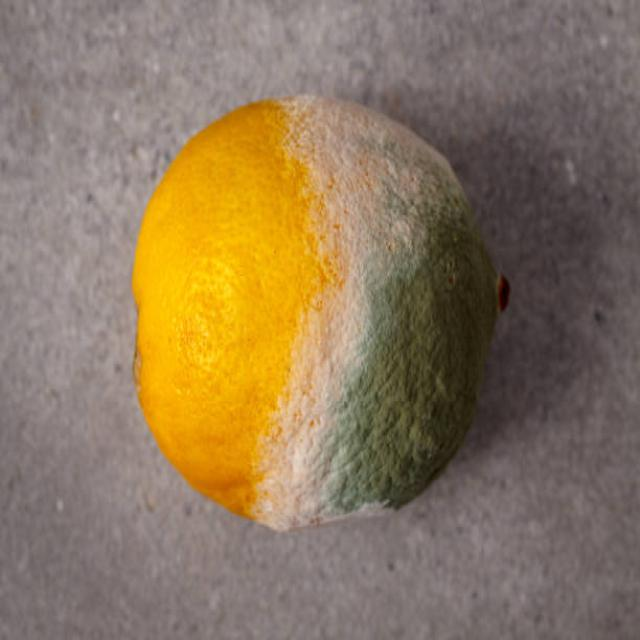Rotten: (129, 90, 512, 532)
